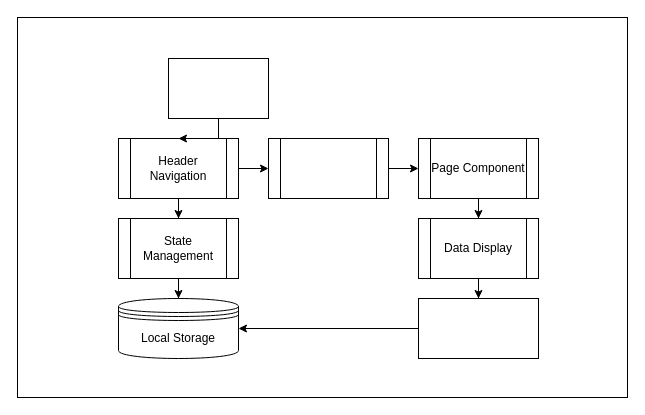
Some shapes in this 645 by 415 pixel diagram are drawn without their labels. The centre of each missing label's shape, as x and y in pixels:
"Section Routing" belongs at [328,168].
"User Input" belongs at [218,88].
"User Interaction" belongs at [478,328].
